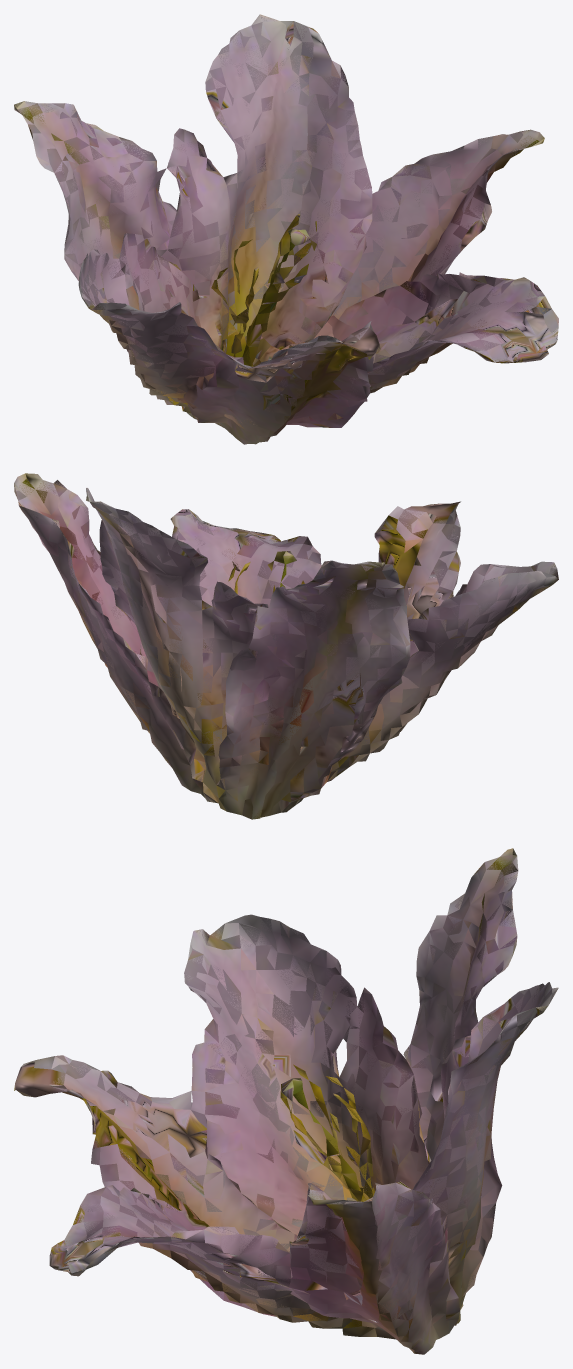
3 views of the same model, one above another, from view 1: azimuth 30°, elevation 25°; view 2: azimuth 150°, elevation 25°; view 3: azimuth 270°, elevation 25° (orthographic). The views are drawn at different scales.
Visible parts, largest first — view 1: 4f70f8d2; view 2: 4f70f8d2; view 3: 4f70f8d2.
Part boxes in pixels (x1=…): 4f70f8d2: x1=14, y1=14, x2=558, y2=444; 4f70f8d2: x1=14, y1=473, x2=558, y2=819; 4f70f8d2: x1=14, y1=848, x2=558, y2=1354.
Size of the model in its own units: 0.1542 by 0.0963 by 0.123.
1 material, 1 textured.
